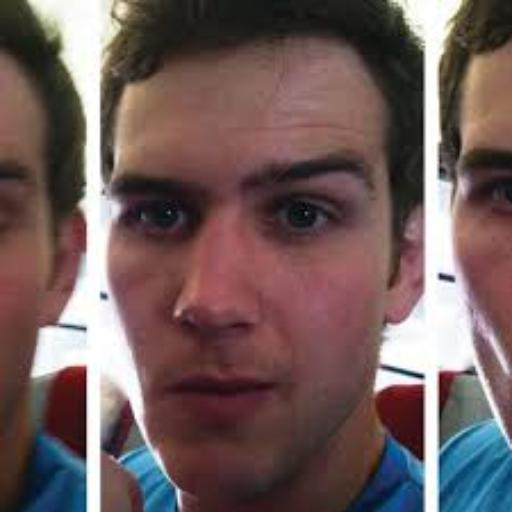left_eye: (257, 199, 344, 235)
left_lip_corner: (259, 371, 291, 400)
right_eye: (121, 200, 198, 234)
right_lip_corner: (156, 380, 190, 404)
